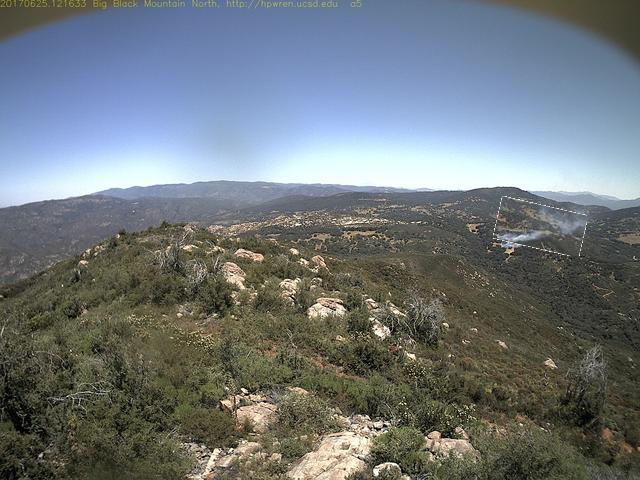smoke: (496, 202, 588, 254)
